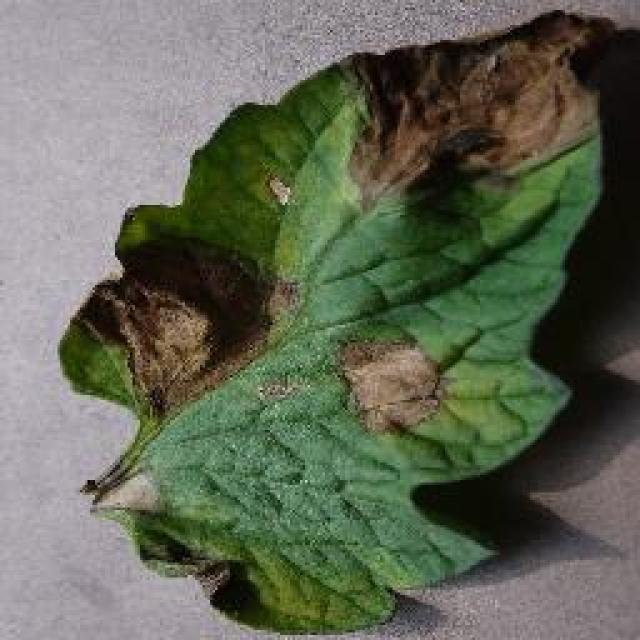Tomato Late Blight: (100, 58, 582, 457)
